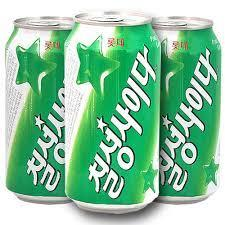chilsungcider: (66, 13, 162, 216)
